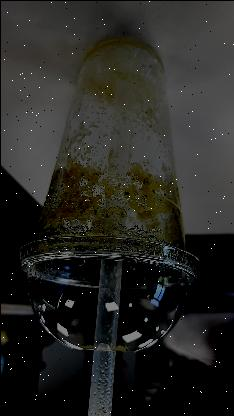Others: (7, 24, 198, 358), (17, 236, 199, 356), (82, 60, 138, 416)
